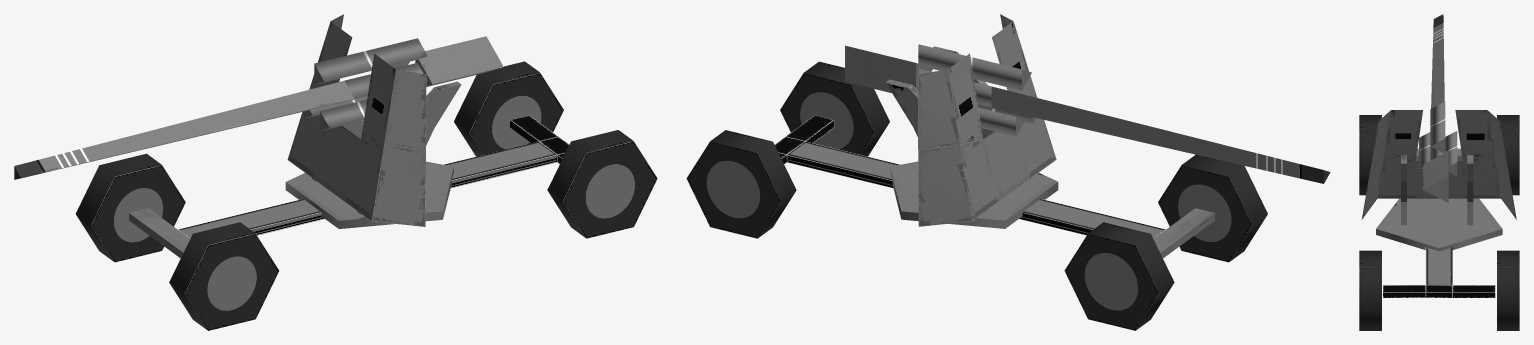
File: flak_idle.FBX
3 views of the same model, side by side, from view 1: azimuth 30°, elevation 25°; view 2: azimuth 150°, elevation 25°; view 3: azimuth 270°, elevation 25° (orthographic). The views are drawn at different scales.
Parts seen in each view (by area): view 1: Box001, Cylinder001, Cylinder010, Cylinder011, Cylinder008, Cylinder009; view 2: Box001, Cylinder001, Cylinder008, Cylinder009, Cylinder011, Cylinder010; view 3: Box001, Cylinder001, Cylinder009, Cylinder010, Cylinder008, Cylinder011.
Boxes of the visible parts, x1,y1,x2,y2 form: Box001: [129, 14, 569, 258]; Cylinder001: [14, 36, 503, 179]; Cylinder010: [547, 130, 657, 238]; Cylinder011: [169, 222, 279, 330]; Cylinder008: [75, 153, 185, 262]; Cylinder009: [454, 61, 563, 156]; Box001: [774, 14, 1214, 258]; Cylinder001: [845, 44, 1330, 183]; Cylinder008: [1064, 222, 1174, 330]; Cylinder009: [686, 130, 796, 238]; Cylinder011: [1158, 154, 1267, 262]; Cylinder010: [780, 61, 889, 156]; Box001: [1361, 110, 1516, 297]; Cylinder001: [1419, 14, 1457, 202]; Cylinder009: [1497, 250, 1519, 330]; Cylinder010: [1359, 250, 1381, 330]; Cylinder008: [1497, 115, 1519, 195]; Cylinder011: [1359, 115, 1381, 195].
Size of the model in its own units: 219 by 69.53 by 70.57.
Materials: 3 (3 with a texture image).
